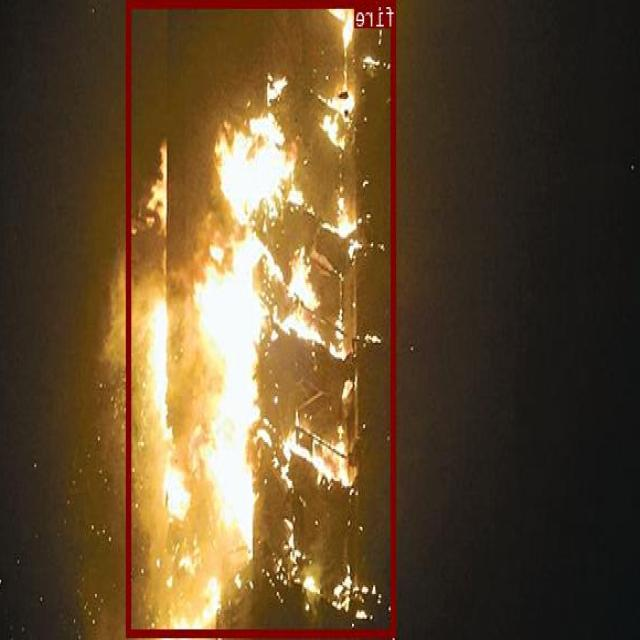fire: (128, 0, 396, 635)
